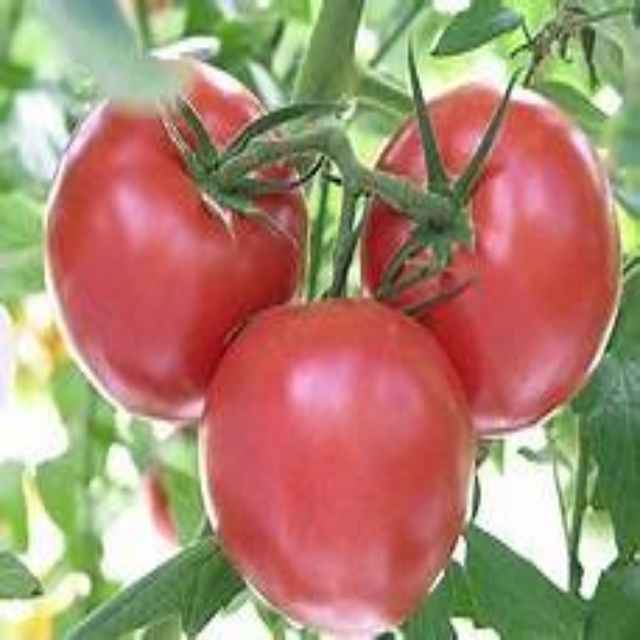tomato: (341, 73, 620, 443), (183, 286, 480, 626), (33, 71, 309, 429)
